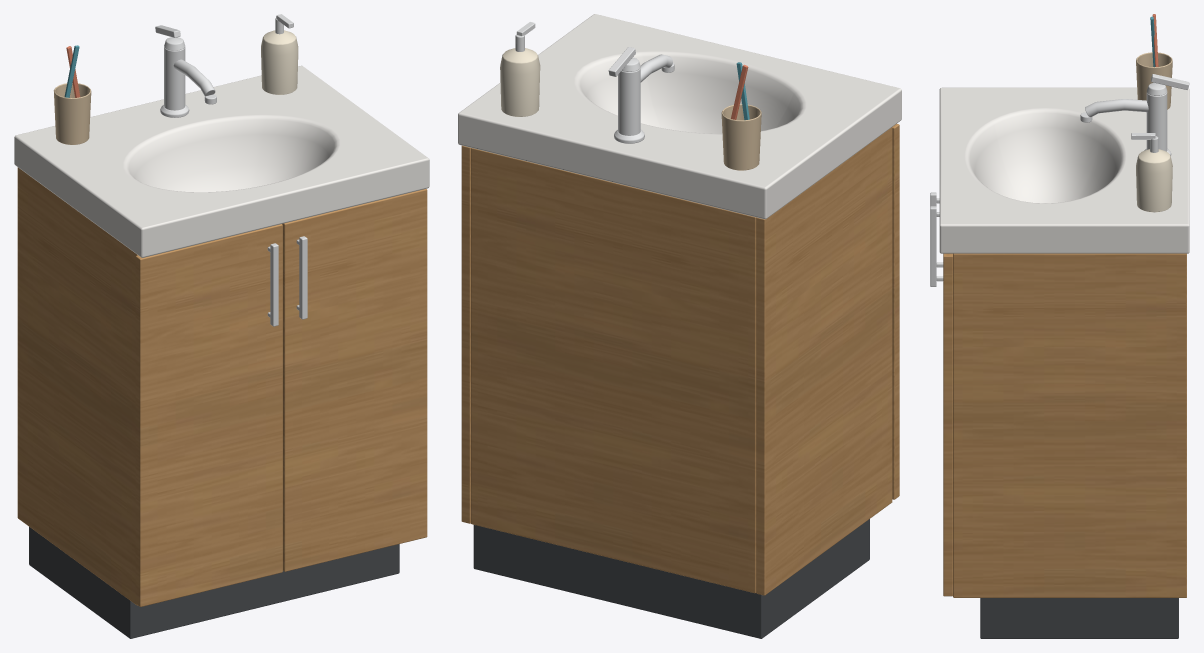
File: vanity.glb
3 renders of one model, left to right at view 1: azimuth 30°, elevation 25°; view 2: azimuth 150°, elevation 25°; view 3: azimuth 270°, elevation 25°, orthographic. The views are drawn at different scales.
Visible parts, largest first — view 1: vanity_doors, vanity_basin_top, vanity_carcass, vanity_plinth, vanity_accessories, vanity_faucet, vanity_handles; view 2: vanity_carcass, vanity_basin_top, vanity_plinth, vanity_accessories, vanity_doors, vanity_faucet; view 3: vanity_carcass, vanity_basin_top, vanity_plinth, vanity_accessories, vanity_doors, vanity_faucet, vanity_handles.
Part boxes in pixels (x1=…): vanity_doors: x1=135, y1=189, x2=427, y2=606; vanity_basin_top: x1=14, y1=65, x2=429, y2=257; vanity_carcass: x1=17, y1=167, x2=137, y2=605; vanity_plinth: x1=29, y1=527, x2=399, y2=638; vanity_accessories: x1=53, y1=14, x2=298, y2=144; vanity_faucet: x1=155, y1=25, x2=216, y2=117; vanity_handles: x1=267, y1=236, x2=307, y2=326; vanity_carcass: x1=461, y1=127, x2=892, y2=595; vanity_basin_top: x1=458, y1=14, x2=901, y2=219; vanity_plinth: x1=473, y1=519, x2=869, y2=638; vanity_accessories: x1=500, y1=22, x2=761, y2=170; vanity_doors: x1=892, y1=124, x2=899, y2=499; vanity_faucet: x1=608, y1=47, x2=674, y2=143; vanity_carcass: x1=953, y1=253, x2=1186, y2=597; vanity_basin_top: x1=939, y1=87, x2=1189, y2=253; vanity_plinth: x1=980, y1=598, x2=1178, y2=638; vanity_accessories: x1=1131, y1=14, x2=1172, y2=212; vanity_doors: x1=943, y1=253, x2=952, y2=596; vanity_faucet: x1=1080, y1=74, x2=1189, y2=156; vanity_handles: x1=930, y1=192, x2=943, y2=286.
Bounding box in the file's own units: 0.6 × 1.03 × 0.477.
8 materials, 1 textured.
